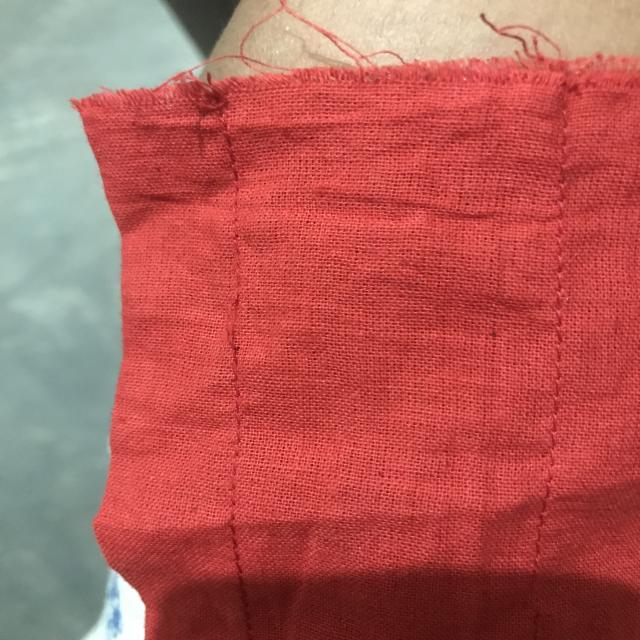good: (543, 294, 575, 438)
skip: (201, 283, 269, 365)
